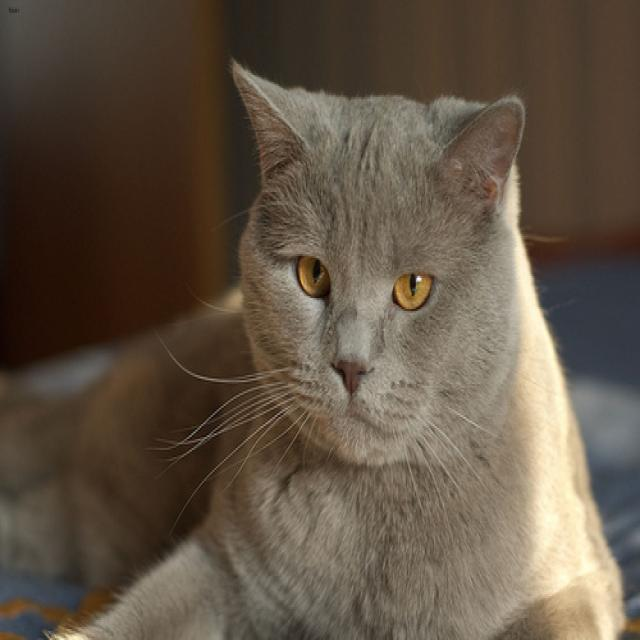cat: (232, 58, 522, 461)
